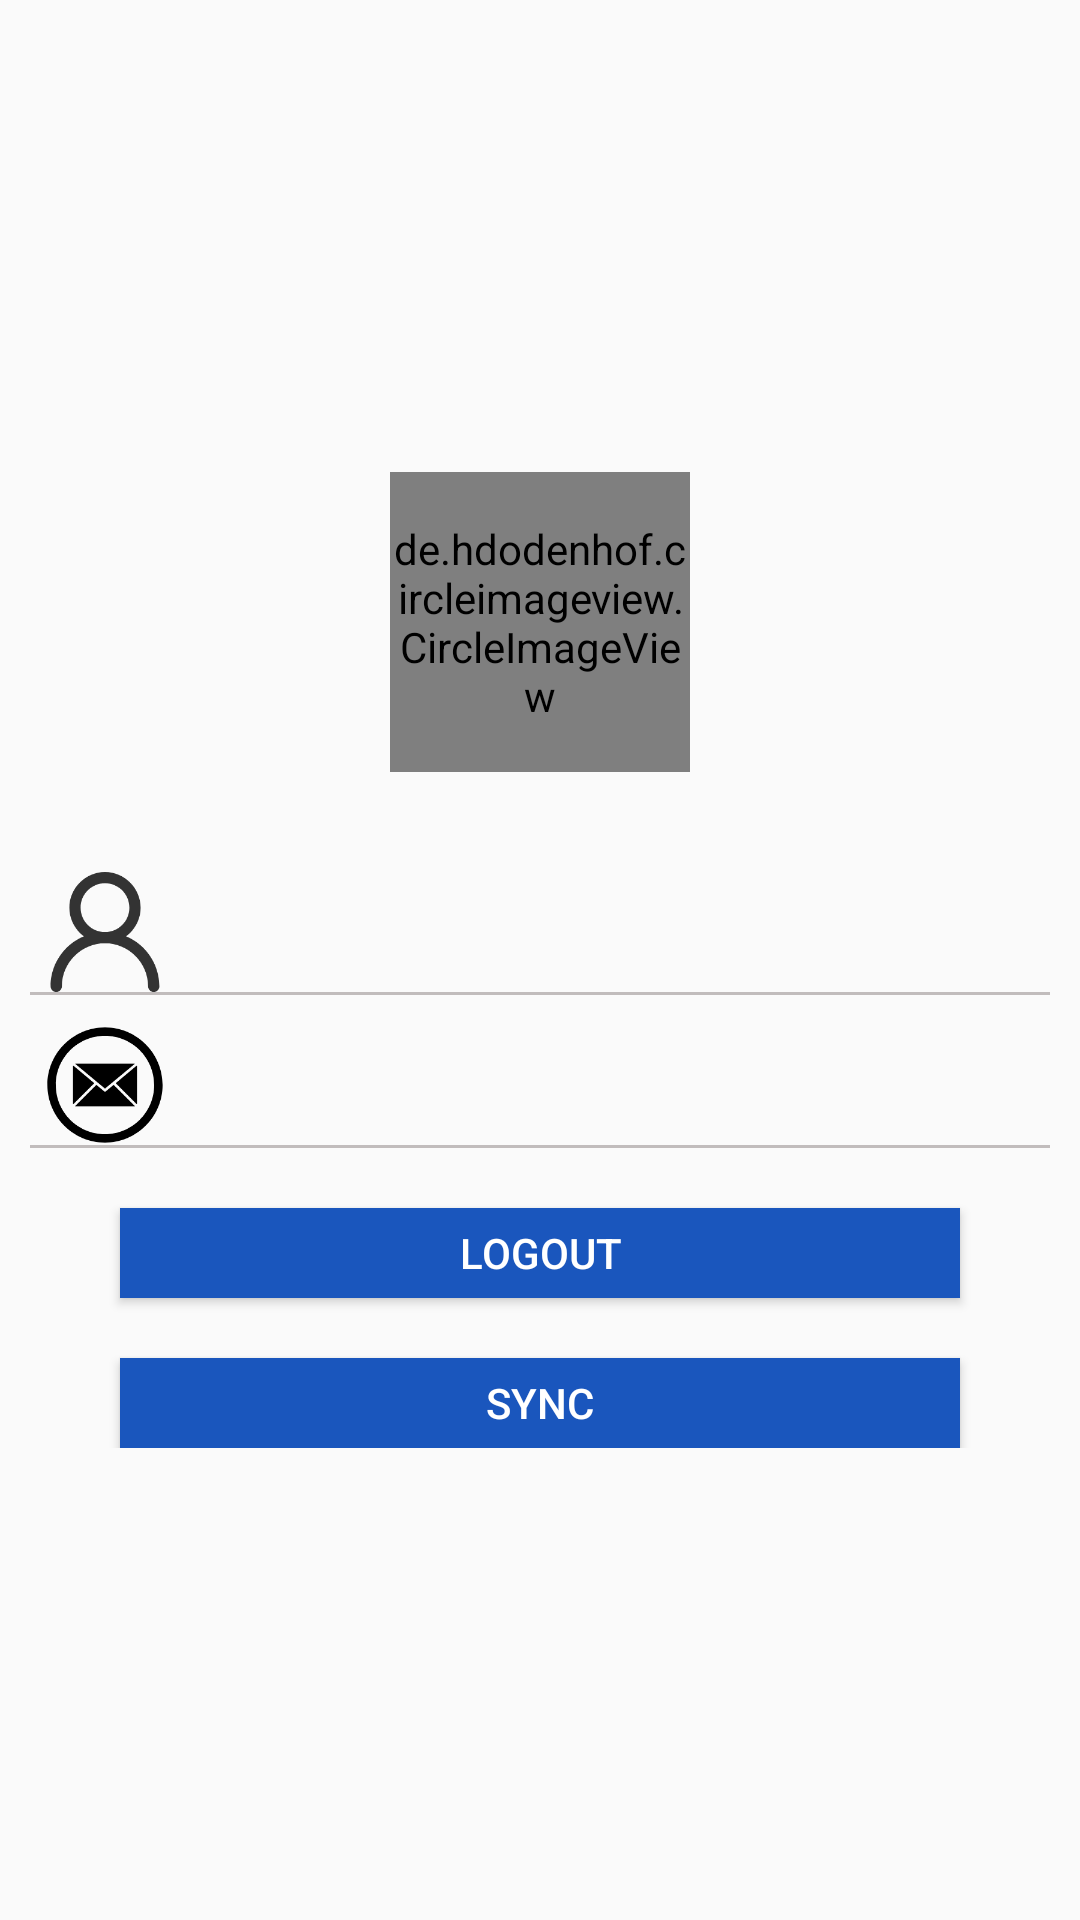

Screen size 1080x1920. Icon name, then its box in pixels as (x1, y1, x2, y2):
email: (47, 1027, 163, 1143)
username: (50, 872, 160, 992)
